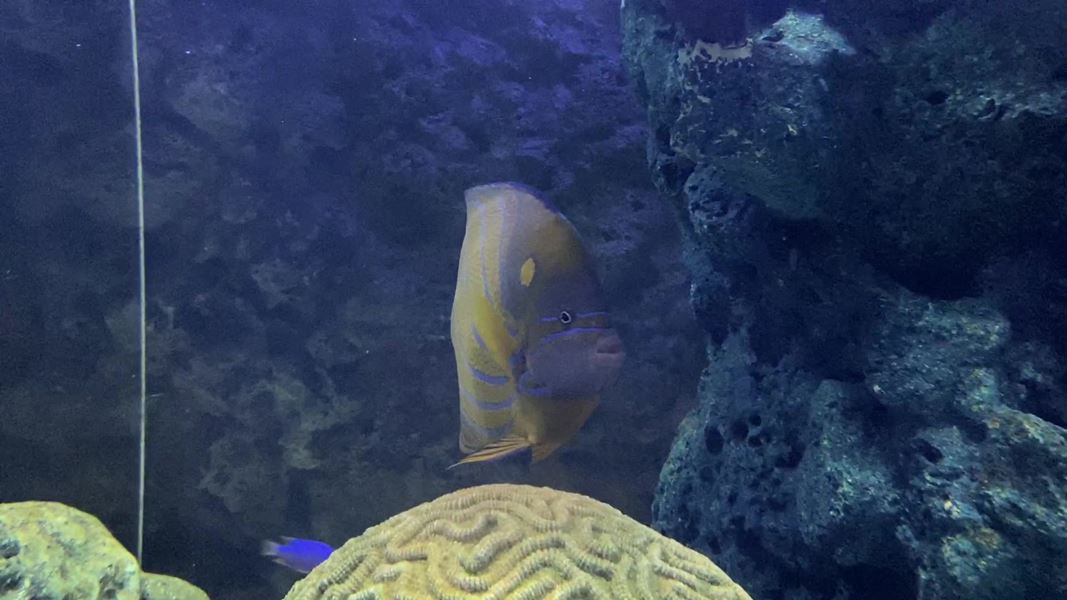Blue ring angelfish: (415, 173, 640, 475)
